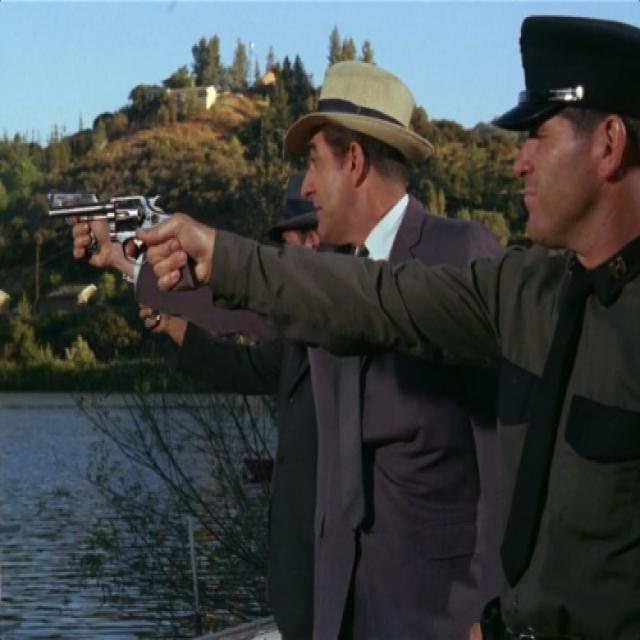weapons: (45, 179, 206, 300)
